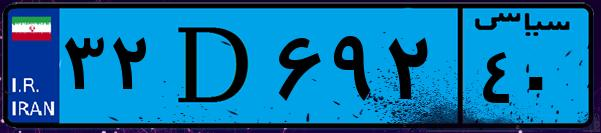0: (525, 38, 570, 115)
2: (385, 28, 445, 110), (110, 28, 158, 98)
3: (57, 26, 110, 100)
4: (475, 38, 525, 113)
6: (270, 28, 330, 110)
9: (330, 28, 385, 110)
D: (158, 12, 270, 120)
